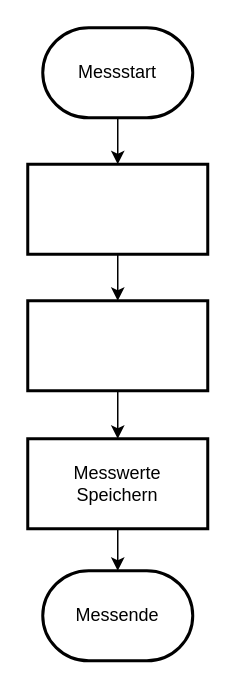
Some shapes in this 234 by 687 pixel diagram are drawn without their labels. The shapes that lost their labels are listed below. From the top down, each one's centre as x and y in pixels, then its label:
At [117,208]: "Messsysteme Hochfahren".
At [117,345]: "Messung durchführen".
